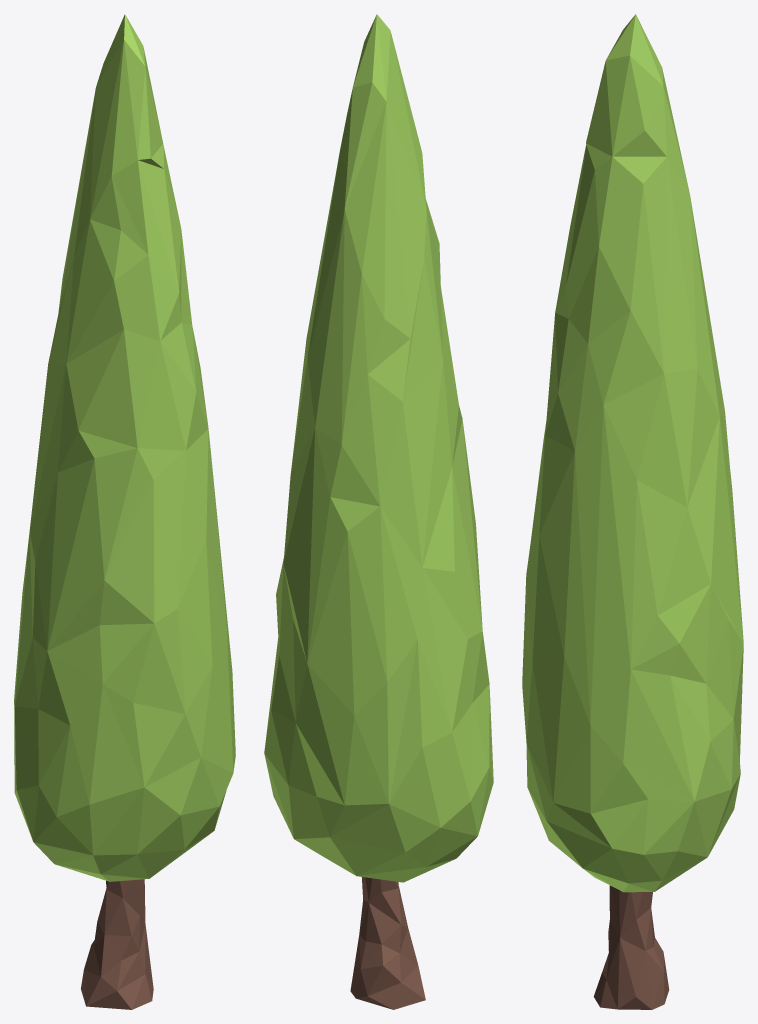
File: pine_a.FBX
3 renders of one model, left to right at view 1: azimuth 30°, elevation 25°; view 2: azimuth 150°, elevation 25°; view 3: azimuth 270°, elevation 25°, orthographic.
Parts seen in each view (by area): view 1: pine_a_LOD0; view 2: pine_a_LOD0; view 3: pine_a_LOD0.
Part boxes in pixels (x1,y1,x2,y2): pine_a_LOD0: (14, 14, 235, 1009); pine_a_LOD0: (264, 14, 493, 1009); pine_a_LOD0: (522, 14, 743, 1009).
Size of what is drawn, in the model's own units: 327 by 1568 by 318.
